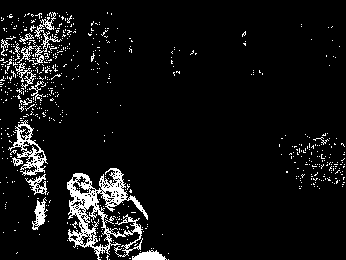person: (93, 167, 149, 260), (12, 123, 49, 230), (65, 171, 108, 260)
